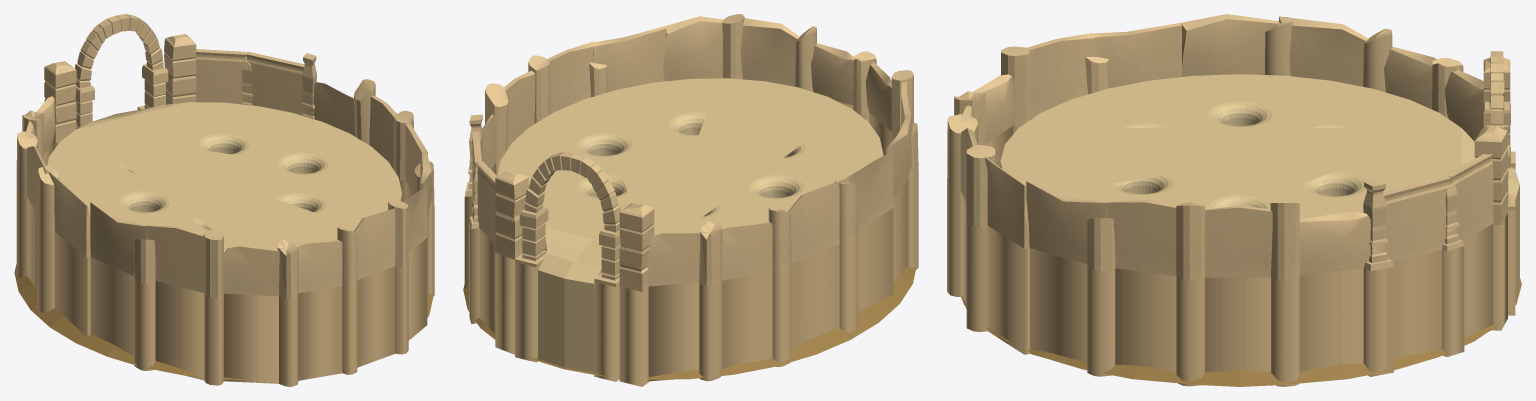
Rendered from Arena.fbx.
The picture shows the model from 3 angles, left to right: view 1: azimuth 30°, elevation 25°; view 2: azimuth 150°, elevation 25°; view 3: azimuth 270°, elevation 25°; orthographic projection. The views are drawn at different scales.
Visible parts, largest first — view 1: TerrainA.016, Circle; view 2: TerrainA.016, Circle; view 3: TerrainA.016, Circle.
Boxes of the visible parts, x1,y1,x2,y2 form: TerrainA.016: (16, 14, 434, 386); Circle: (14, 102, 433, 379); TerrainA.016: (464, 14, 918, 386); Circle: (463, 78, 916, 379); TerrainA.016: (947, 14, 1515, 386); Circle: (961, 74, 1521, 386).
Bounding box in the file's own units: 22027 × 11659 × 26106.
Materials: 3 (2 with a texture image).
